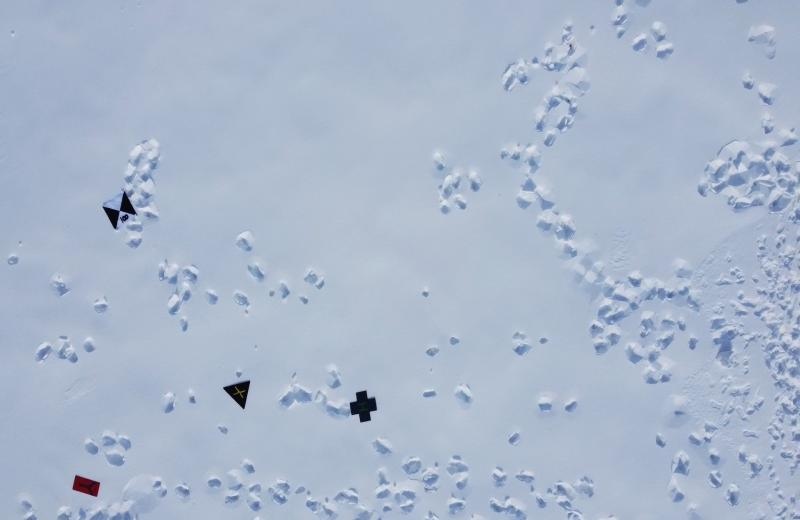Cross: (348, 389, 377, 424)
Rectangle: (71, 471, 102, 499)
Triangle: (222, 380, 256, 412)
